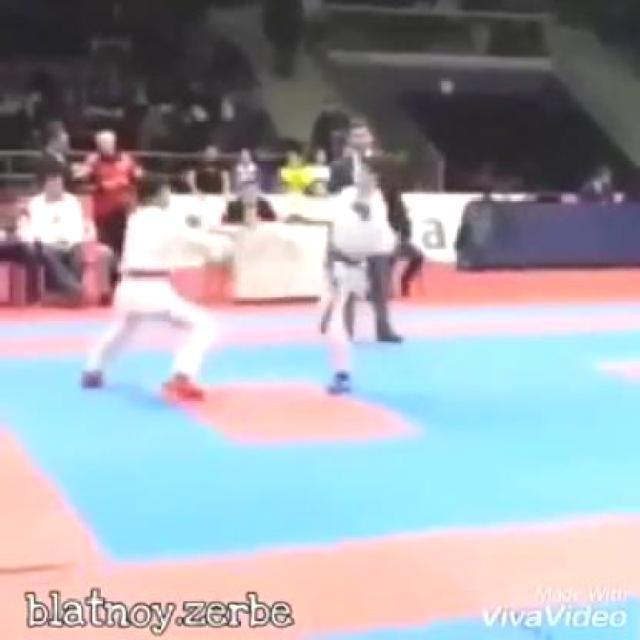fight: (126, 158, 391, 398)
